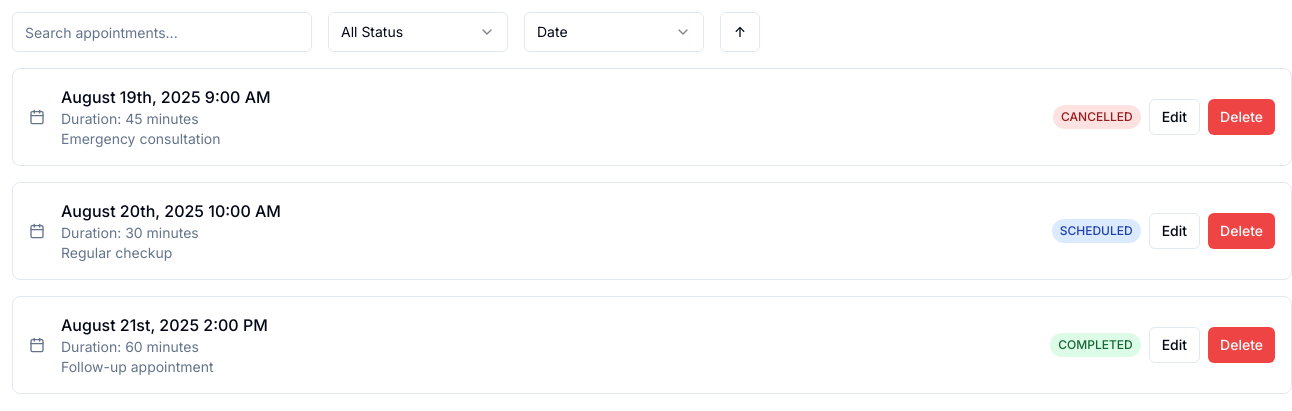
AppointmentList › shows empty state when no appointments match filters
Type "nonexistent appointment" into the search field with placeholder "Search appointments..." at point(162, 32), box x1=12 y1=12 x2=312 y2=52
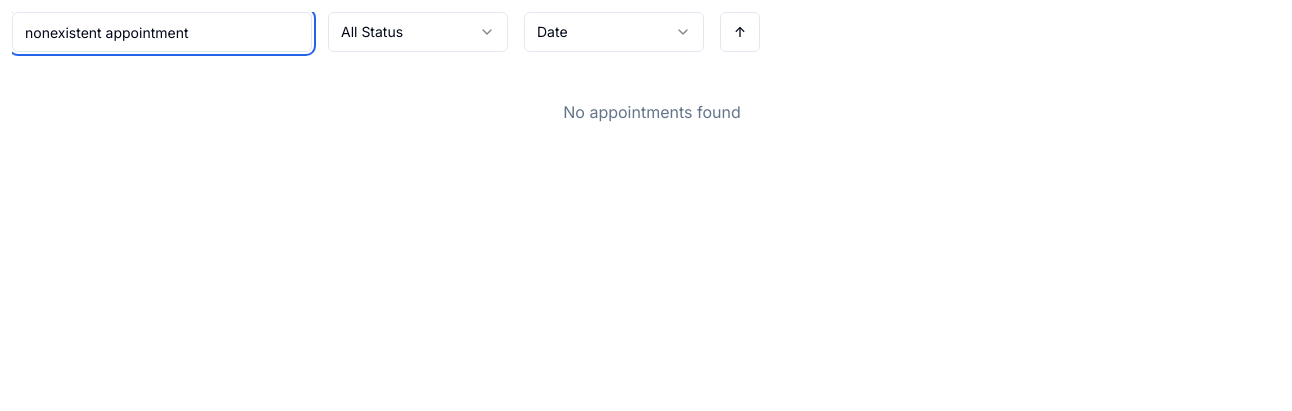
Expected: the text "No appointments found" is shown, x1=563 y1=102 x2=741 y2=122
